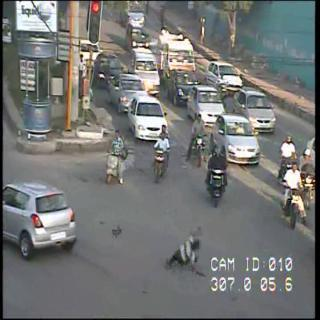Vehicle-Crash_Detected: (16, 181, 228, 293)
